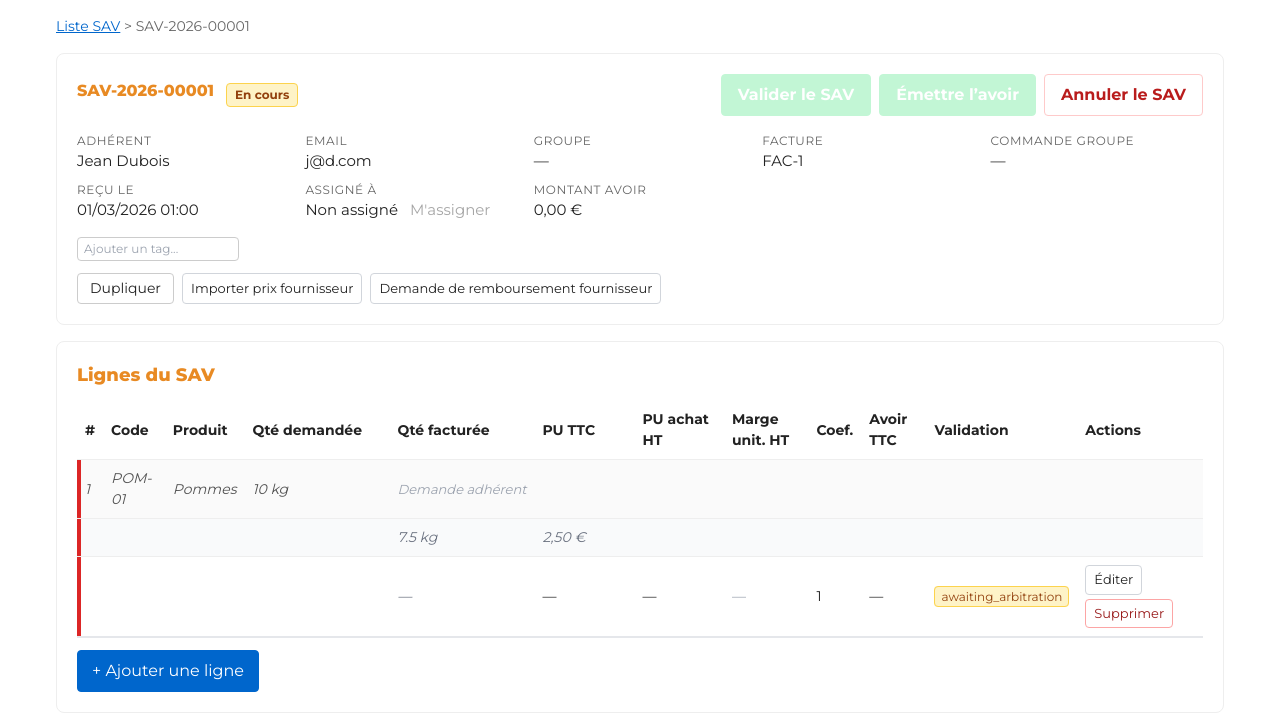
Test: V1.9-B S-09 — Pre-fill draft : qtyArbitrated IS NULL → draft préremplit avec qtyInvoiced › qtyArbitrated IS NULL → à l'ouverture édition, edit-qty-arbitrated-100 pré-rempli avec qtyInvoiced
What coordinates should you click on to do the following:
click the button with test id "edit-line-100"
I would click on:
 (1114, 580)
Its box is [1085,565,1142,594].
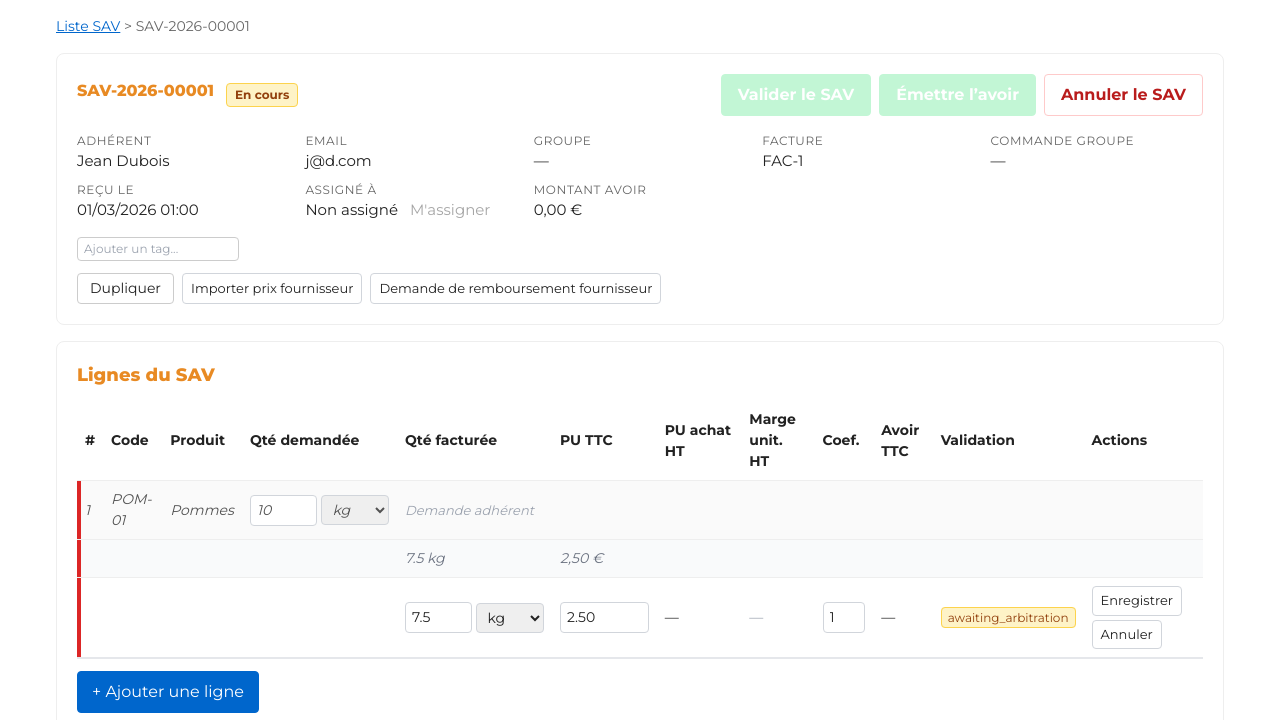
Expected: the number field with test id "edit-qty-arbitrated-100" is shown, [405,602,472,633]
